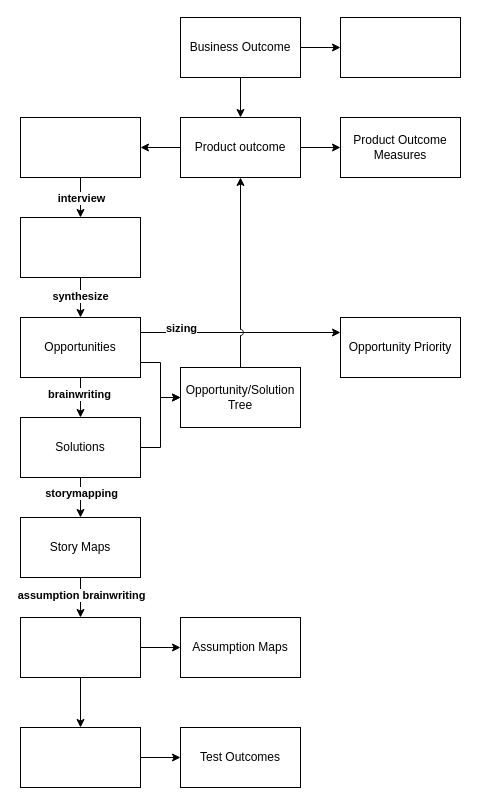
Some shapes in this 478 by 805 pixel diagram are drawn without their labels. Here are the shapes that lost their labels. From the top down, the centre of each, then its label:
At [400,47]: "Business Outcome Measures".
At [80,147]: "Research Questions & Interview Questions".
At [80,247]: "Interview Snapshots".
At [80,647]: "Assumptions".
At [80,757]: "Assumption Tests".
